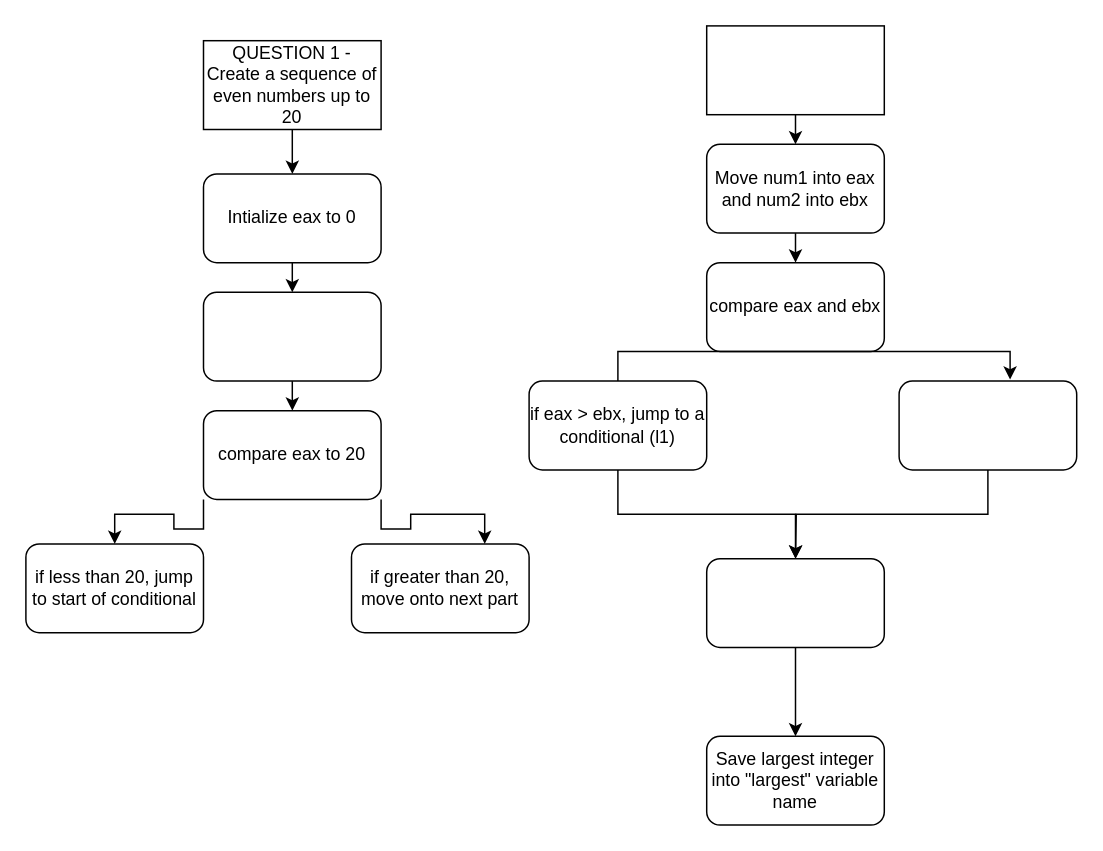
This 1103x851 diagram has some shape labels left out. The box of each missing label's shape, as (x1, y1, x2, y2) in pixels:
Add eax by 2 to get the next even num: (202, 291, 381, 381)
Continue repeating this process until you get through all integers 1-5: (705, 557, 884, 648)
Otherwise move ebx to eax and continue: (898, 380, 1077, 470)
QUESTION 2 - Find largest number among 5 integers: (705, 24, 884, 115)
